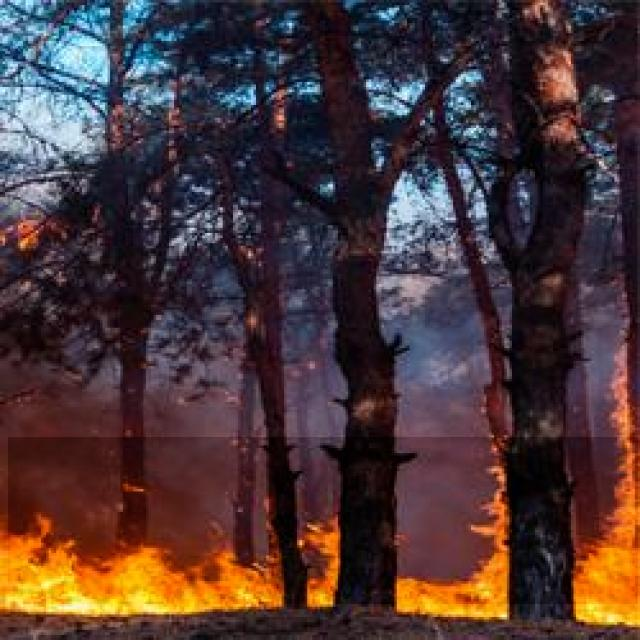Fire: (8, 437, 638, 604)
